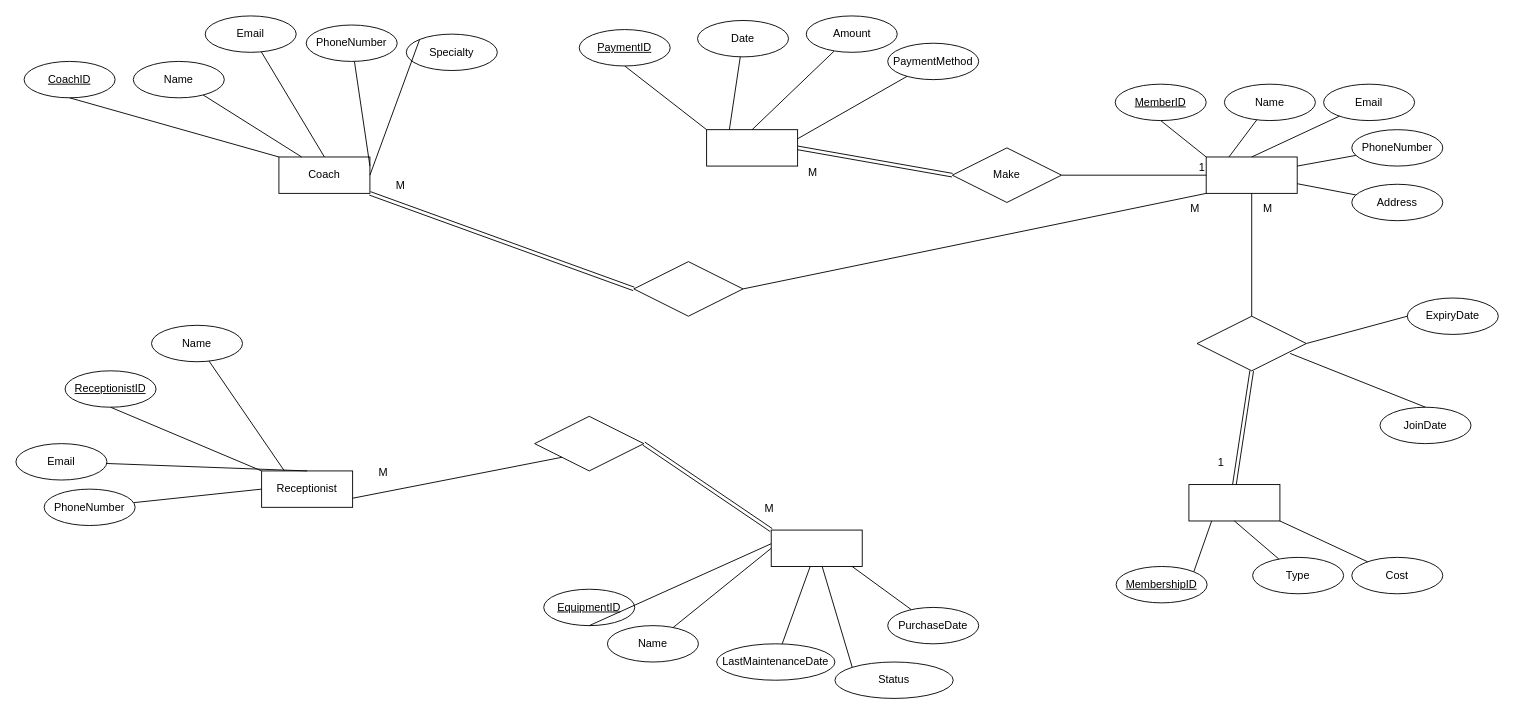
The diagram is 1514 pixels wide and 714 high, and some of its shapes have lost their labels. The centre of each missing label's shape, as x and y in pixels:
Equipment: the point at 816,547
Has: the point at 1251,343
Member: the point at 1251,174
Membership: the point at 1234,502
Payment: the point at 752,147
Track: the point at 589,443
Train: the point at 688,288
